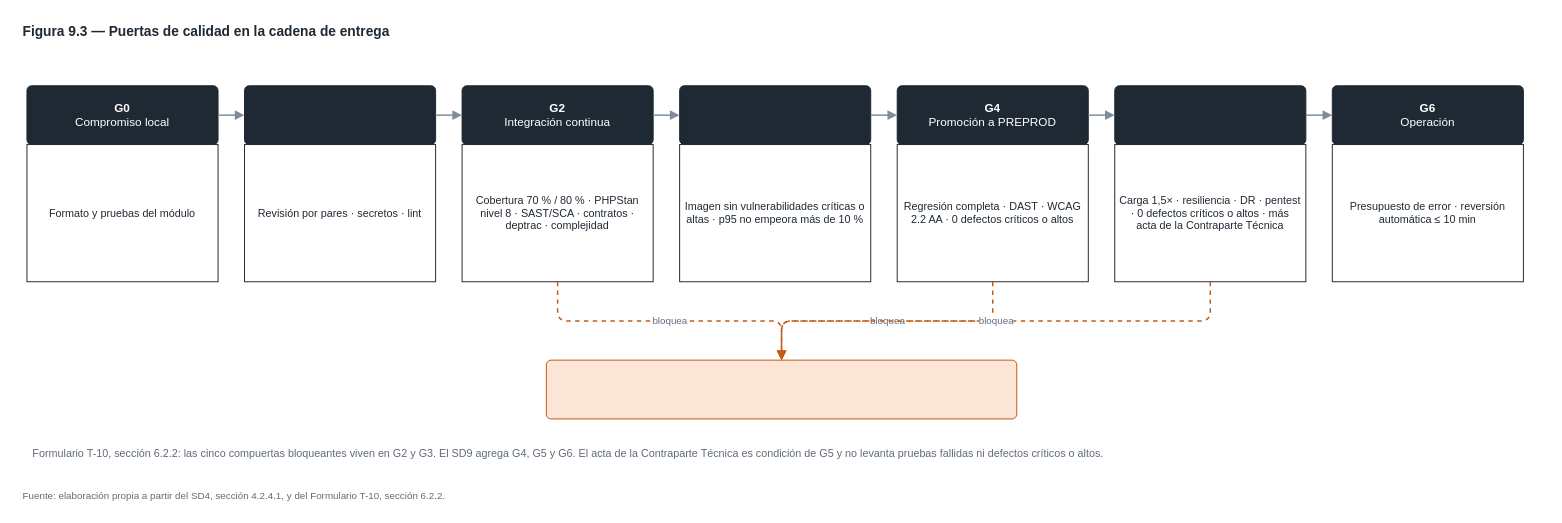
Some shapes in this 1562 by 523 pixel diagram are drawn without their labels. The shapes that lost their labels are listed below. From the top down, each one's centre as x and y in pixels, then its label:
At point (340, 115): "G1 Solicitud de fusión".
At point (775, 115): "G3 Promoción a QA".
At point (1210, 115): "G5 Paso a PROD".
At point (781, 389): "Cambio rechazado : vuelve al autor con el criterio incumplido".
